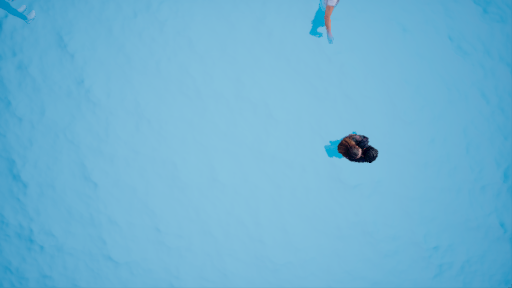person: (318, 130, 383, 169), (305, 1, 350, 45)
